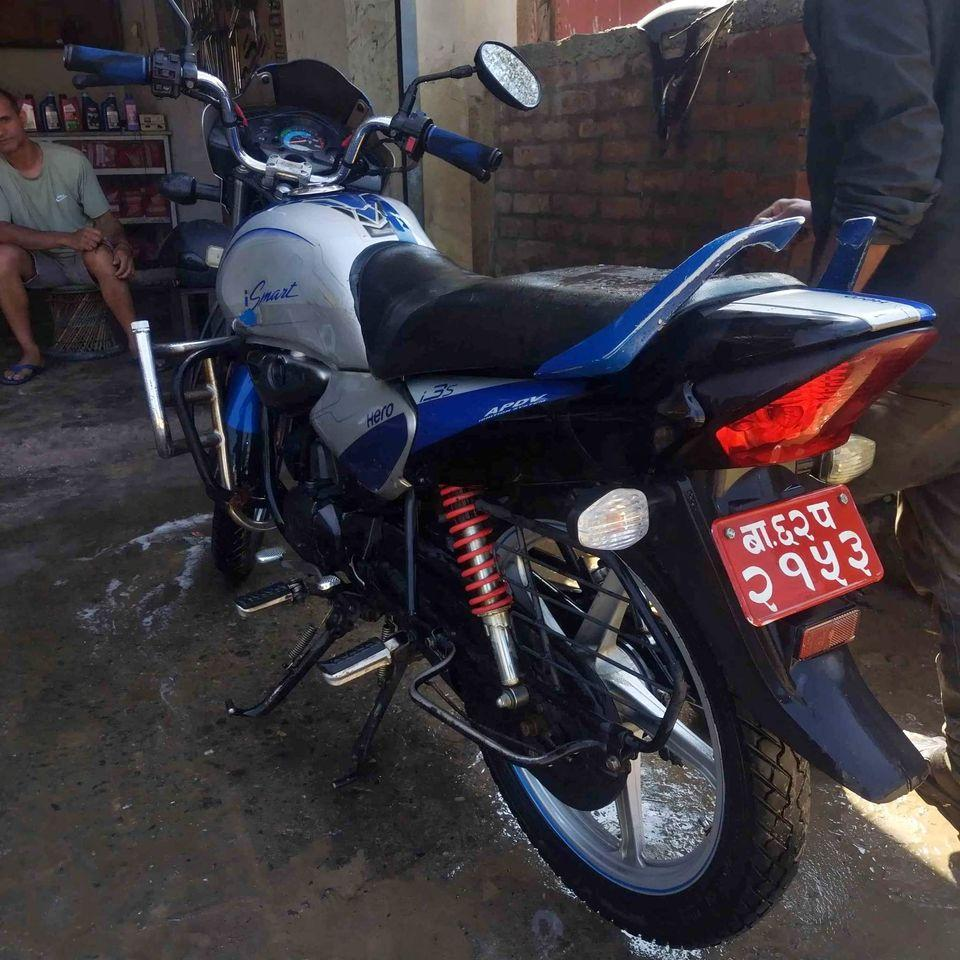bike: (57, 4, 944, 944)
